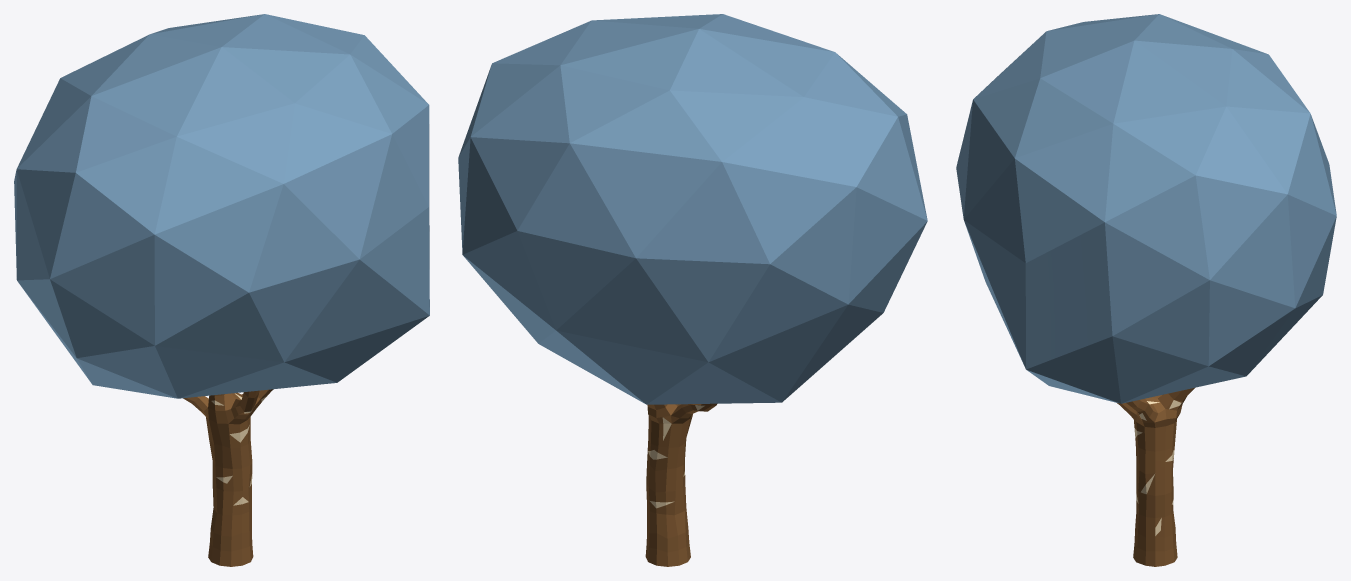
Rendered from Birch2.fbx.
3 renders of one model, left to right at view 1: azimuth 30°, elevation 25°; view 2: azimuth 150°, elevation 25°; view 3: azimuth 270°, elevation 25°, orthographic. The views are drawn at different scales.
Visible parts, largest first — view 1: Circle.003, Circle.004; view 2: Circle.003, Circle.004; view 3: Circle.003, Circle.004.
Part boxes in pixels (bbox=[...]): Circle.003: bbox=[14, 14, 429, 536]; Circle.004: bbox=[208, 528, 253, 566]; Circle.003: bbox=[458, 14, 927, 538]; Circle.004: bbox=[645, 528, 690, 566]; Circle.003: bbox=[956, 14, 1336, 537]; Circle.004: bbox=[1133, 527, 1177, 566].
Size of the model in its own units: 4546 by 5673 by 3856.
